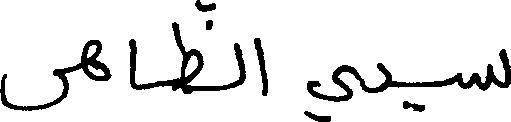X: (0, 62, 69, 115), (308, 60, 360, 121), (173, 0, 203, 98), (477, 44, 510, 95), (82, 35, 111, 85), (255, 33, 267, 100), (233, 38, 246, 92), (378, 58, 392, 96), (129, 34, 135, 93), (452, 68, 461, 92)
